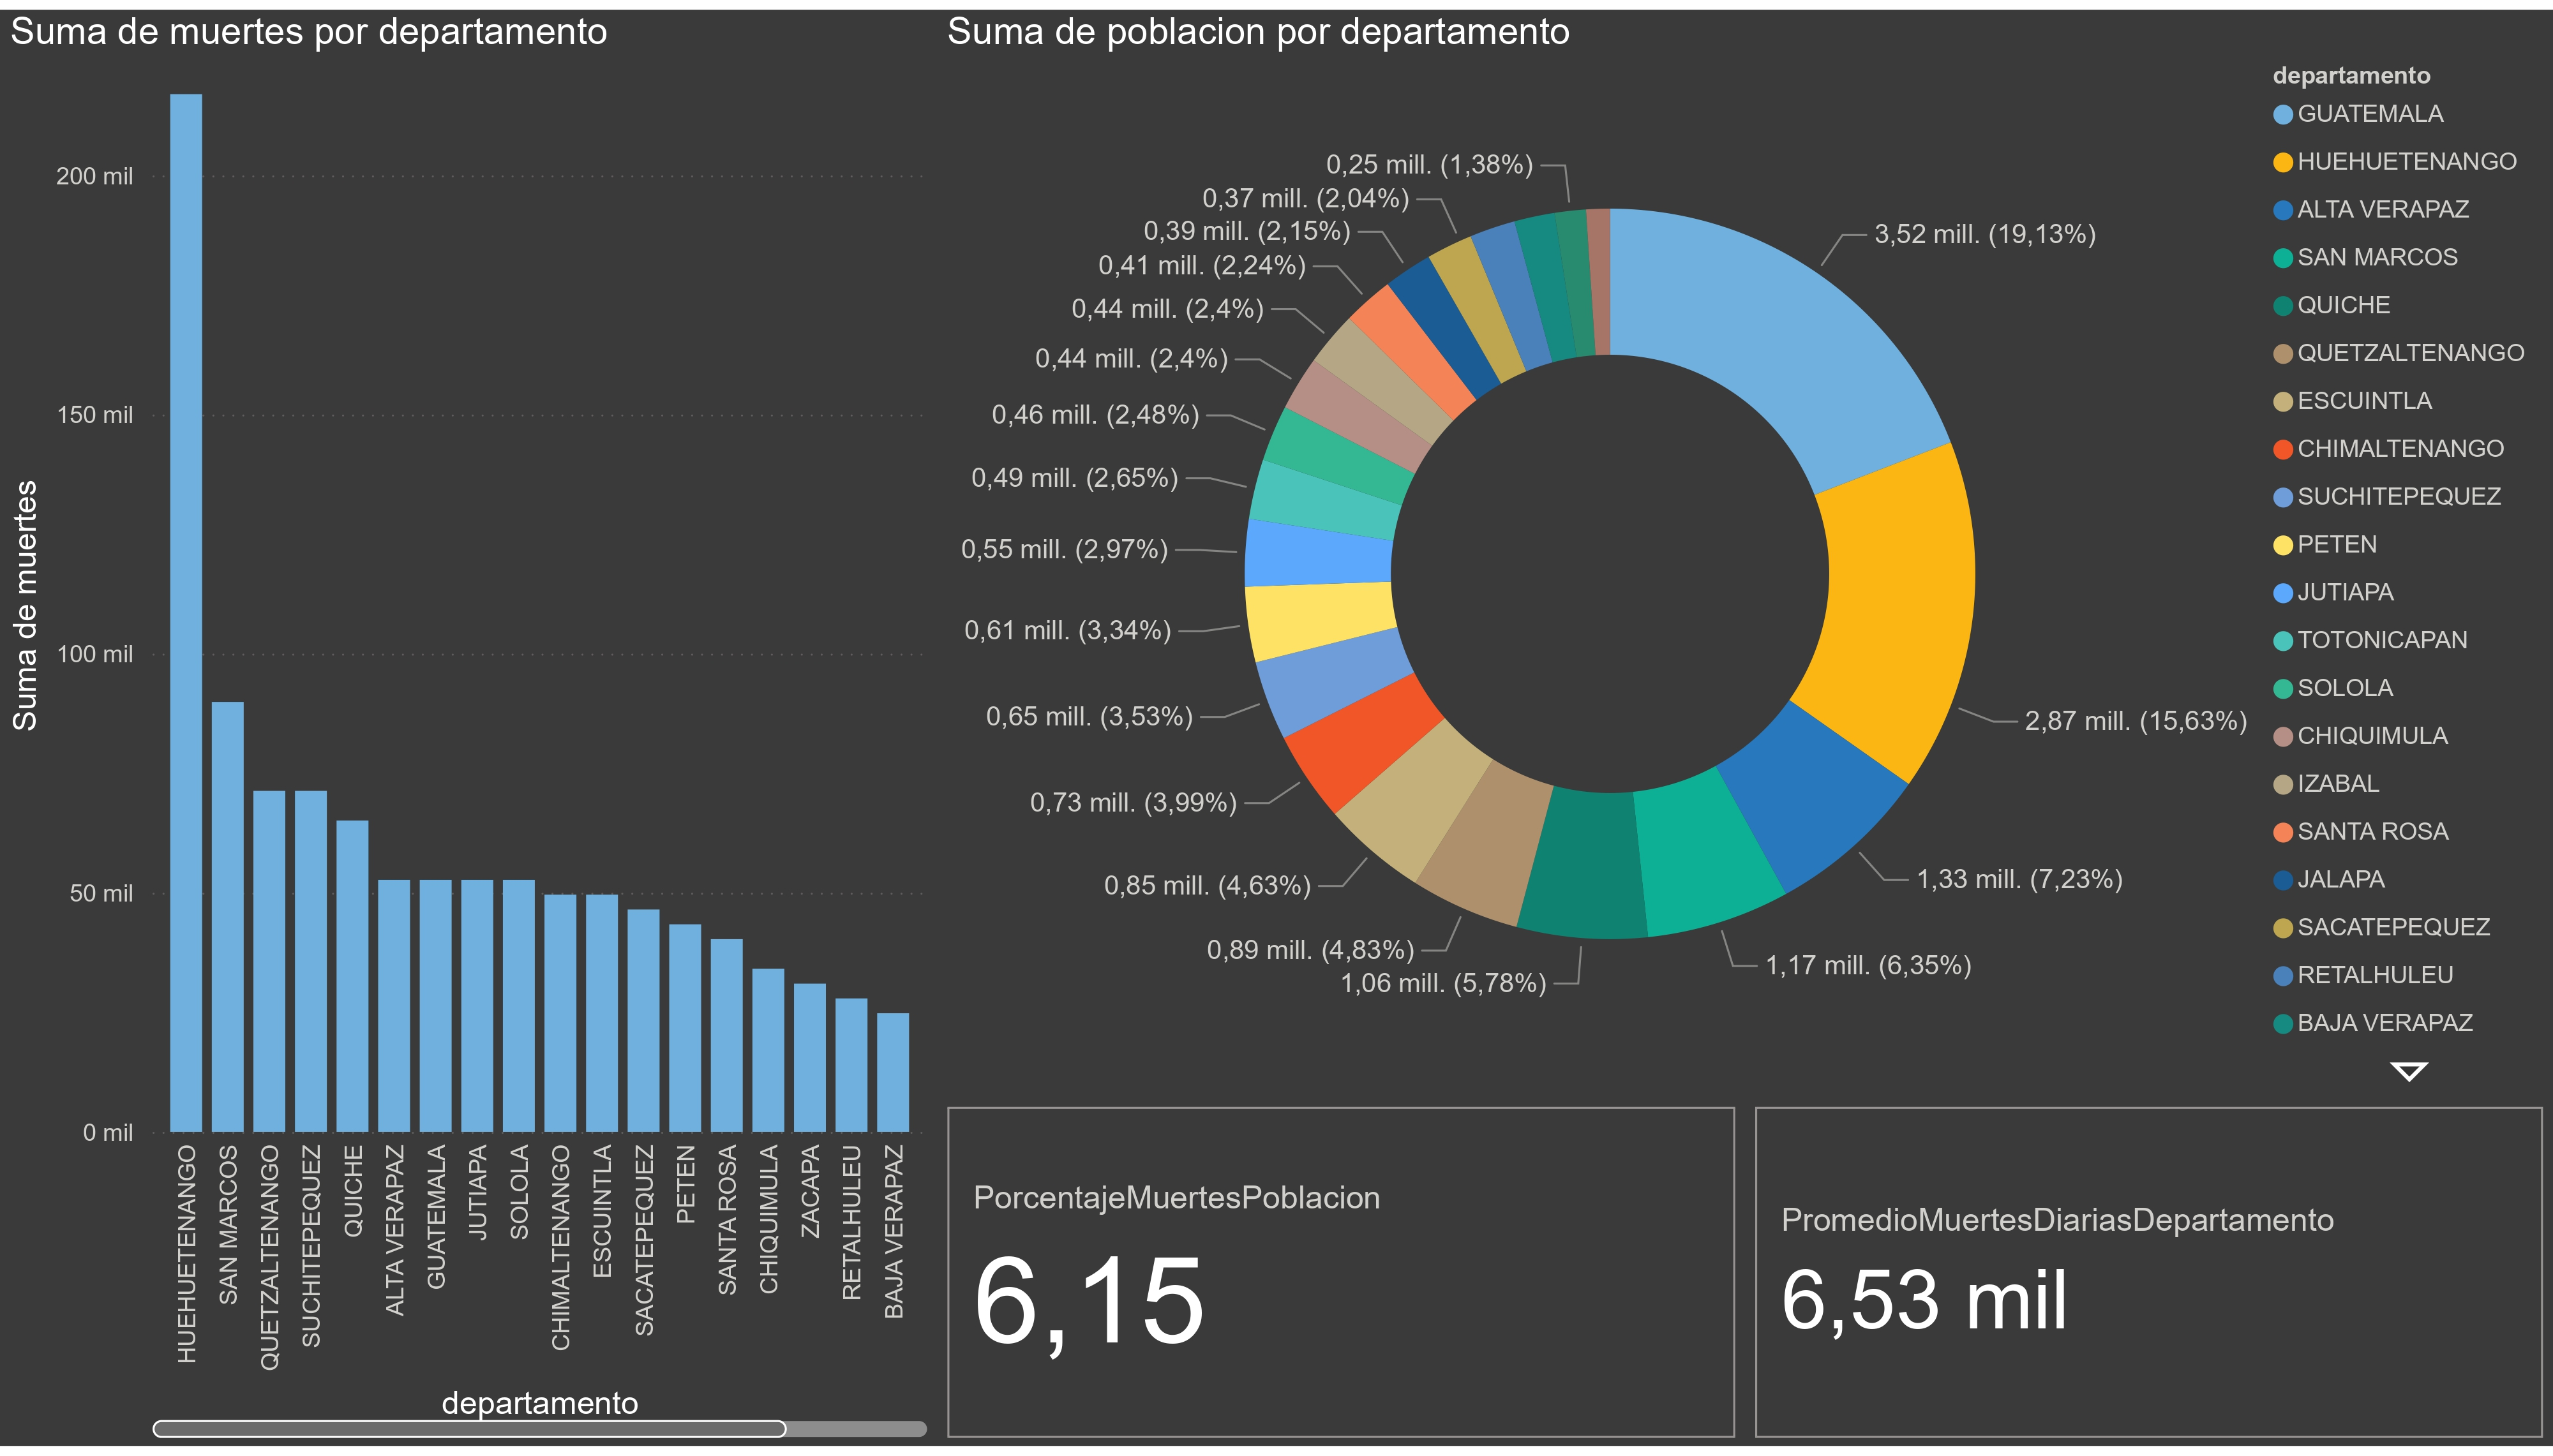

The dashboard page shown, as its layout file describes it:
{"tool":"powerbi","page":{"name":"Página 4","canvas":[1280,720],"ordinal":3},"visuals":[{"type":"clusteredColumnChart","fields":{"Category":["Departamento.departamento"],"Y":["Sum(DatosCovid.muertes)"]},"box":[0,0,469.8,720.5],"z":1},{"type":"cardVisual","fields":{"Data":["DatosCovid.PromedioMuertesDiariasDepartamento"]},"box":[875,544.5,405.2,176],"z":2},{"type":"donutChart","fields":{"Category":["Departamento.departamento"],"Y":["Sum(Municipio.poblacion)"]},"box":[469.8,0,810.4,544.5],"z":4},{"type":"cardVisual","fields":{"Data":["DatosCovid.PorcentajeMuertesPoblacion"]},"box":[469.8,544.5,405.2,176],"z":5}]}

Visuals, with their boxes in screenshot pixels (x1, y1, x2, y2), scaled from the page's 1280x720 canvas onto the 2553x1456 screenshot:
clusteredColumnChart - Departamento.departamento x Sum(DatosCovid.muertes): crop(0, 0, 937, 1455)
cardVisual - DatosCovid.PromedioMuertesDiariasDepartamento: crop(1745, 1101, 2552, 1455)
donutChart - Departamento.departamento x Sum(Municipio.poblacion): crop(937, 0, 2552, 1101)
cardVisual - DatosCovid.PorcentajeMuertesPoblacion: crop(937, 1101, 1745, 1455)
